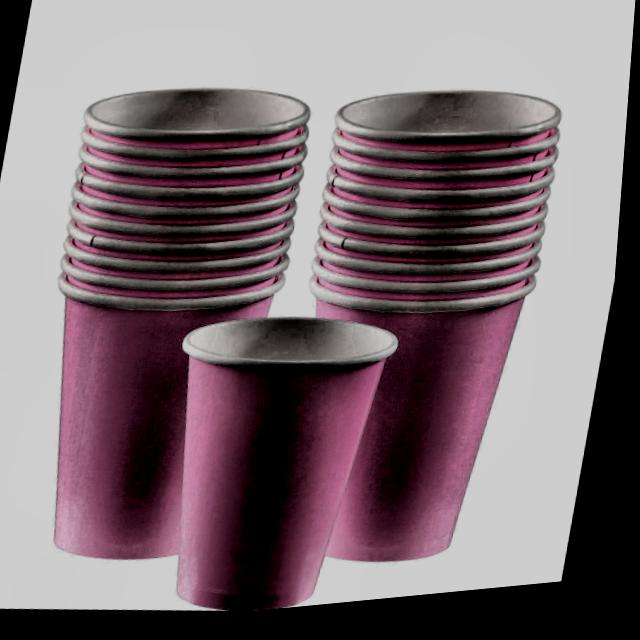Cup: (7, 61, 331, 596), (258, 68, 579, 598), (136, 289, 415, 627)
